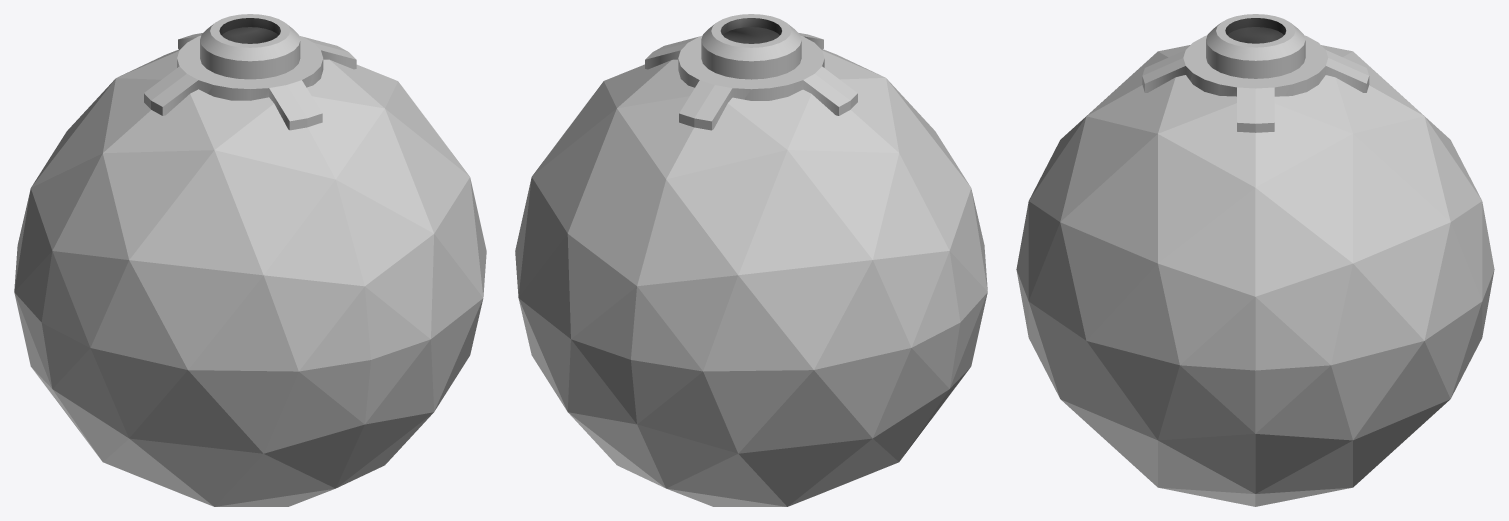
The picture shows the model from 3 angles, left to right: view 1: azimuth 30°, elevation 25°; view 2: azimuth 150°, elevation 25°; view 3: azimuth 270°, elevation 25°; orthographic projection.
Visible parts, largest first — view 1: Group1, Group2; view 2: Group1, Group2; view 3: Group1, Group2.
Boxes of the visible parts, left/top/right/bottom form: Group1: left=14, top=49, right=486, bottom=506; Group2: left=144, top=14, right=356, bottom=130; Group1: left=515, top=49, right=987, bottom=506; Group2: left=645, top=14, right=857, bottom=130; Group1: left=1016, top=45, right=1494, bottom=506; Group2: left=1142, top=14, right=1369, bottom=132.
Bounding box in the file's own units: 0.72 × 0.7565 × 0.72.
